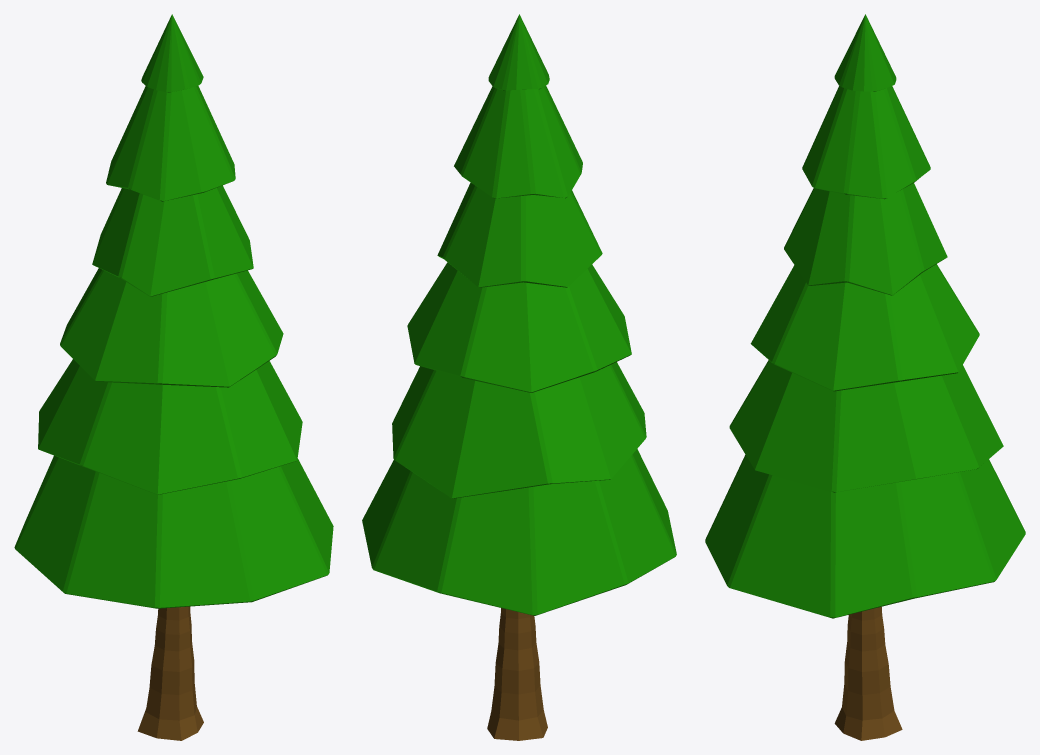
The model's file is pine-tree-3.glb.
3 views of the same model, side by side, from view 1: azimuth 30°, elevation 25°; view 2: azimuth 150°, elevation 25°; view 3: azimuth 270°, elevation 25° (orthographic).
Visible parts, largest first — view 1: Pine tree 3; view 2: Pine tree 3; view 3: Pine tree 3.
Part boxes in pixels (bbox=[...]): Pine tree 3: bbox=[14, 14, 333, 740]; Pine tree 3: bbox=[362, 14, 676, 740]; Pine tree 3: bbox=[705, 14, 1025, 740].
Size of the model in its own units: 8.07 by 19.79 by 8.07.
